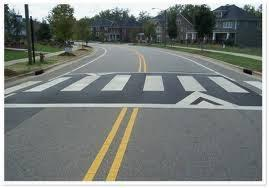Bump: (3, 75, 257, 106)
